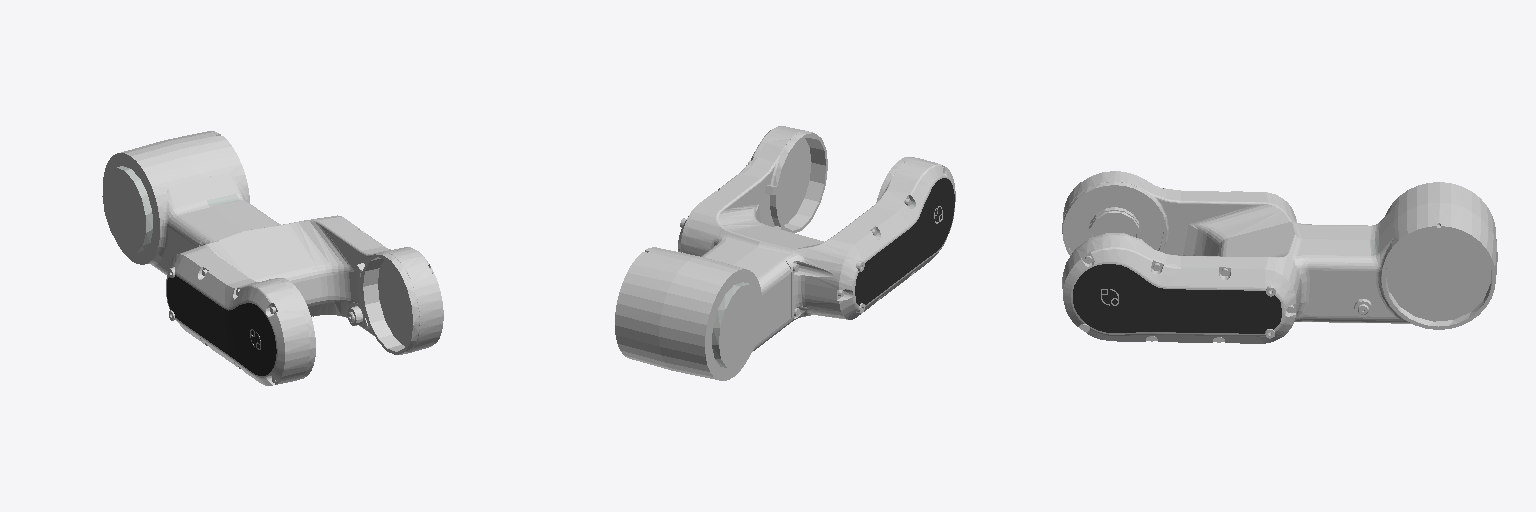
Rendered from RobotLink2_Model.obj.
3 renders of one model, left to right at view 1: azimuth 30°, elevation 25°; view 2: azimuth 150°, elevation 25°; view 3: azimuth 270°, elevation 25°, orthographic.
Bounding box in the file's own units: 179 × 102 × 376.